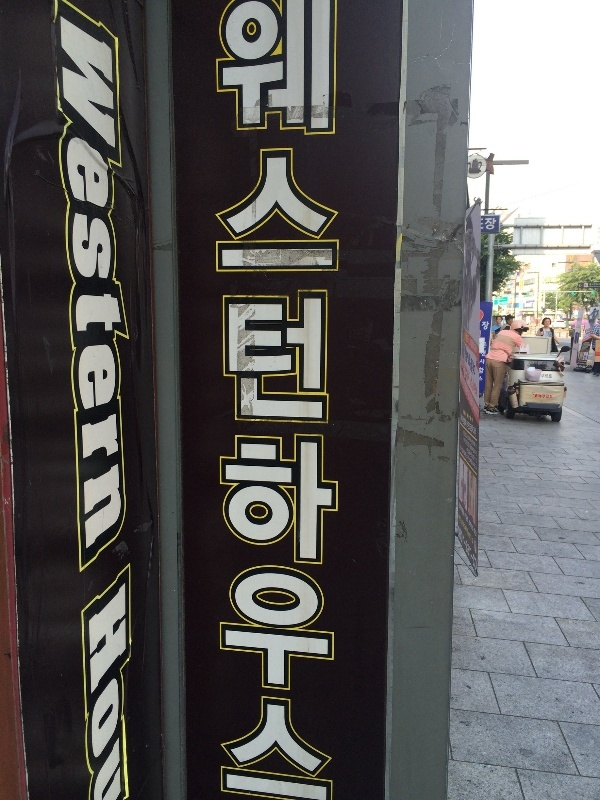text: (209, 2, 224, 798), (225, 2, 240, 798), (241, 2, 256, 798), (257, 2, 272, 798), (273, 2, 288, 798), (289, 2, 304, 798), (305, 2, 320, 798), (321, 2, 336, 798), (337, 2, 351, 798), (49, 1, 64, 590), (65, 1, 80, 590), (81, 1, 96, 590), (97, 1, 112, 590), (113, 1, 128, 590), (200, 2, 208, 798), (81, 549, 96, 798), (97, 549, 112, 798), (113, 549, 128, 798), (465, 334, 479, 579), (45, 1, 48, 590), (74, 549, 80, 798), (129, 549, 135, 798), (129, 1, 131, 590), (481, 340, 496, 358), (482, 318, 496, 334), (485, 218, 496, 233), (481, 357, 486, 387), (545, 393, 553, 402), (538, 393, 544, 402), (545, 373, 552, 380), (541, 373, 544, 380), (497, 218, 498, 233)
